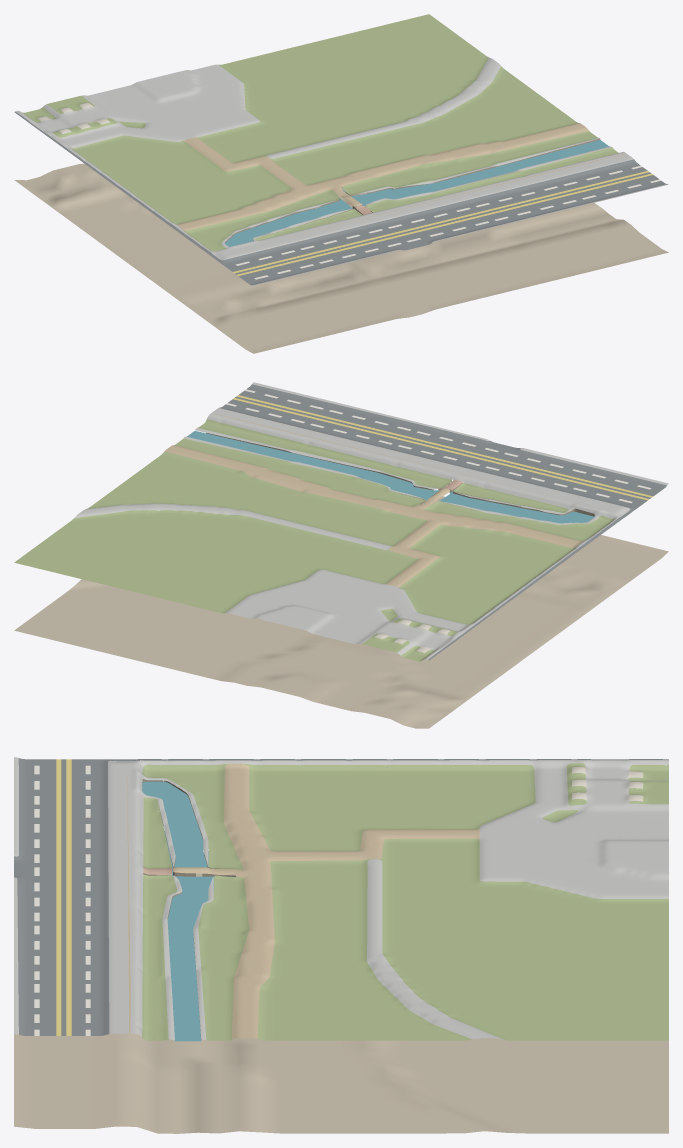
The picture shows the model from 3 angles, top to bottom: view 1: azimuth 30°, elevation 25°; view 2: azimuth 150°, elevation 25°; view 3: azimuth 270°, elevation 25°; orthographic projection. The views are drawn at different scales.
Parts seen in each view (by area): view 1: s_-7_0__grass, s_-7_0__soil, s_-7_0__stone_paving, s_-7_0__asphalt, s_-7_0__timber_deck, s_-7_0__water, s_-7_0__yellow_marking, s_-7_0__white_marking, s_-7_0__shore_bank_completion; view 2: s_-7_0__grass, s_-7_0__soil, s_-7_0__stone_paving, s_-7_0__asphalt, s_-7_0__timber_deck, s_-7_0__water, s_-7_0__yellow_marking, s_-7_0__white_marking, s_-7_0__shore_bank; view 3: s_-7_0__grass, s_-7_0__soil, s_-7_0__stone_paving, s_-7_0__asphalt, s_-7_0__timber_deck, s_-7_0__water, s_-7_0__yellow_marking, s_-7_0__white_marking, s_-7_0__paving.
Boxes of the visible parts, x1,y1,x2,y2 form: s_-7_0__grass: (22,14,618,251); s_-7_0__soil: (14,105,668,353); s_-7_0__stone_paving: (16,57,668,285); s_-7_0__asphalt: (14,111,666,285); s_-7_0__timber_deck: (176,123,626,243); s_-7_0__water: (225,140,609,246); s_-7_0__yellow_marking: (233,171,652,275); s_-7_0__white_marking: (235,165,660,279); s_-7_0__shore_bank_completion: (277,138,600,232); s_-7_0__grass: (14,419,613,661); s_-7_0__soil: (14,496,668,728); s_-7_0__stone_paving: (74,382,668,659); s_-7_0__asphalt: (219,384,666,660); s_-7_0__timber_deck: (165,413,583,587); s_-7_0__water: (187,431,593,523); s_-7_0__yellow_marking: (233,395,652,500); s_-7_0__white_marking: (226,389,651,502); s_-7_0__shore_bank: (206,433,594,516); s_-7_0__grass: (142,763,668,1040); s_-7_0__soil: (14,852,668,1133); s_-7_0__stone_paving: (14,757,668,1040); s_-7_0__asphalt: (14,758,668,1035); s_-7_0__timber_deck: (127,764,479,1039); s_-7_0__water: (142,781,231,1041); s_-7_0__yellow_marking: (56,759,71,1035); s_-7_0__white_marking: (34,765,90,1035); s_-7_0__paving: (572,767,643,801).
Bounding box in the file's own units: 128 × 21.79 × 128.
